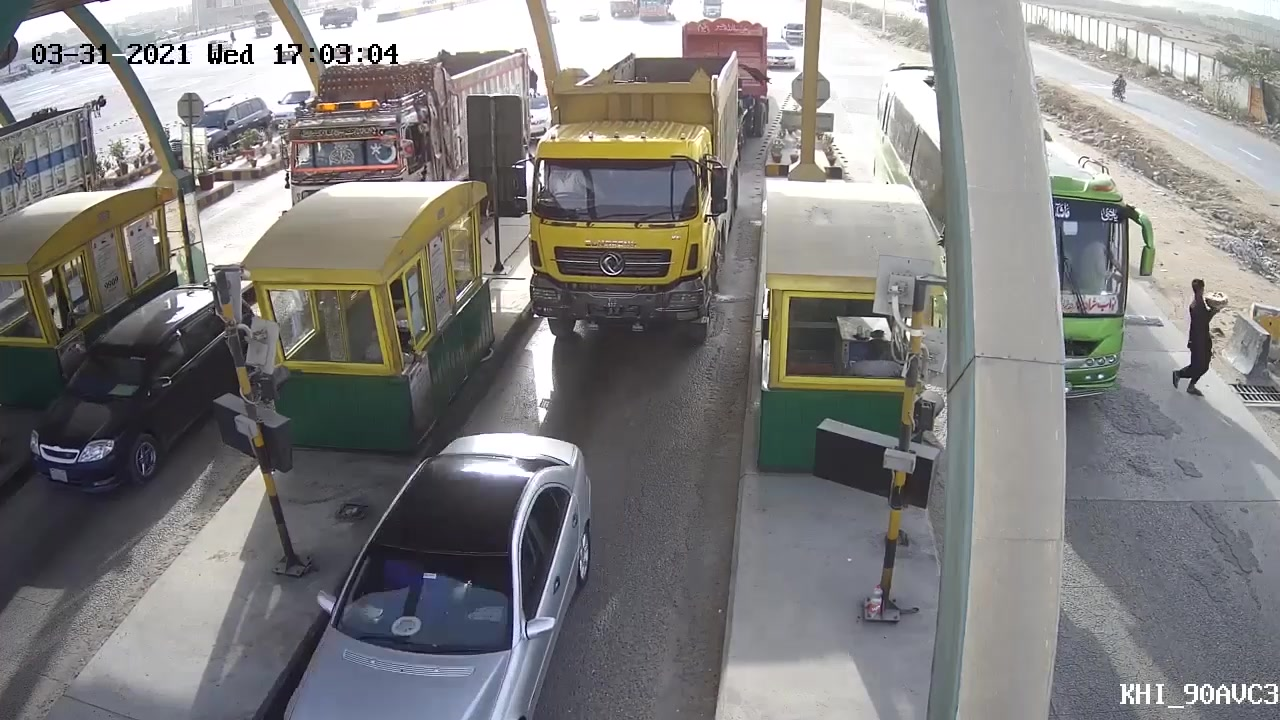F5: (512, 51, 748, 336)
